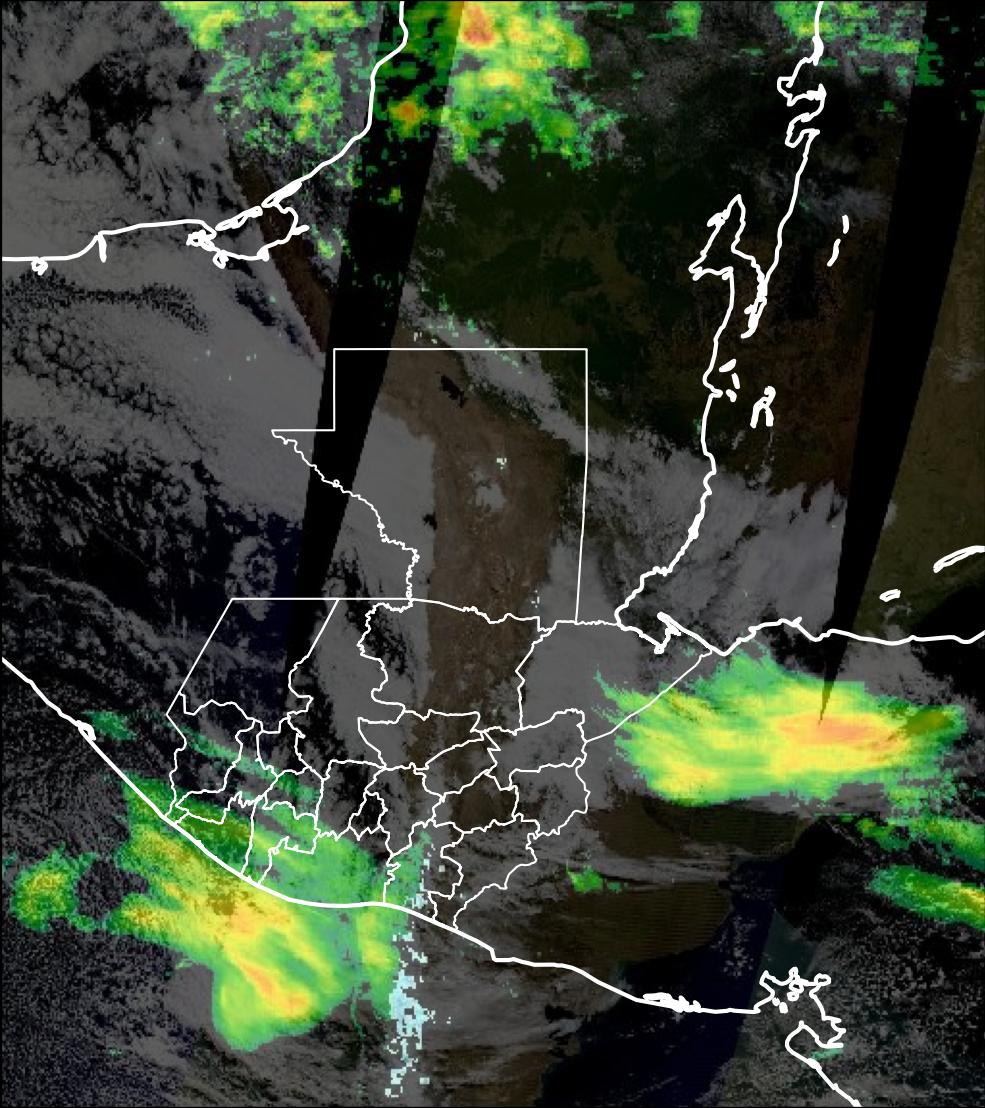precipitacion: (754, 687, 947, 786), (424, 1, 523, 100)
